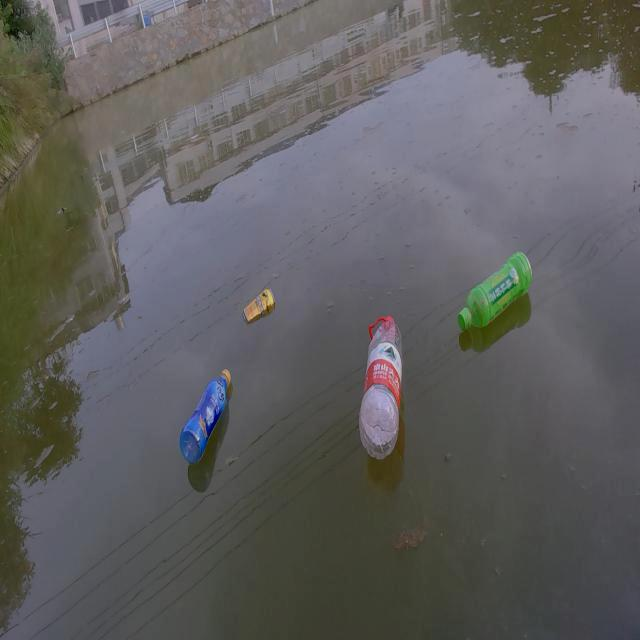bottle: (437, 212, 554, 362), (339, 289, 418, 470), (162, 342, 245, 478)
